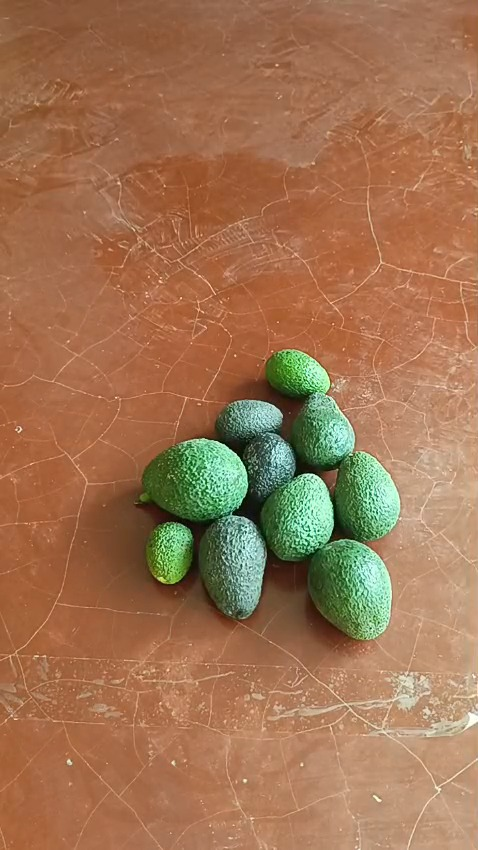Primera: (141, 438, 248, 521)
Segunda: (306, 539, 392, 638), (199, 515, 268, 618), (259, 473, 335, 561), (333, 449, 401, 542), (290, 392, 354, 470)
Tercera: (241, 431, 297, 505), (214, 398, 284, 448), (263, 347, 330, 398), (144, 520, 194, 584)
